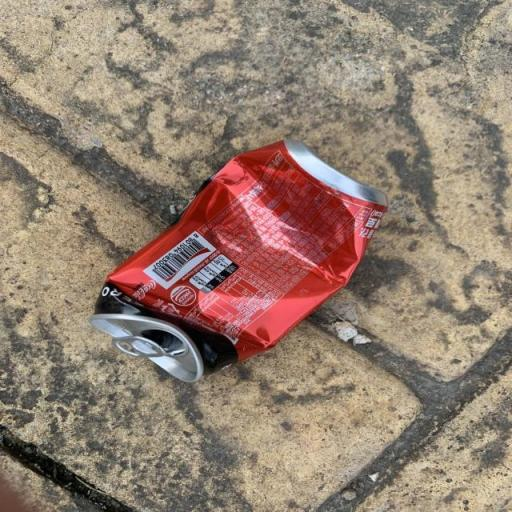metal: (90, 124, 392, 399)
